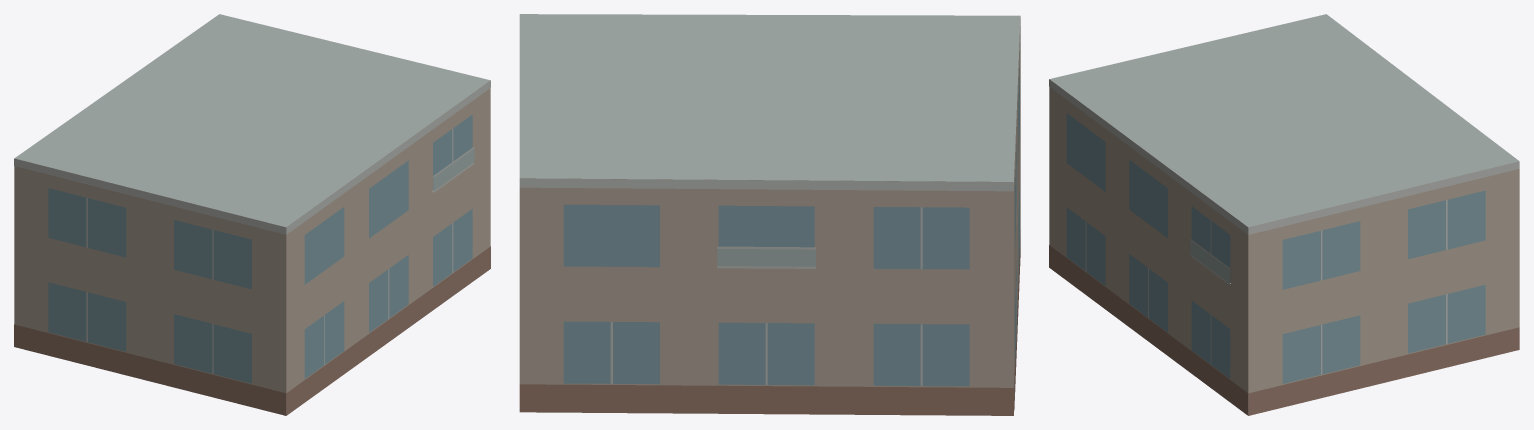
Rendered from survey-upis-32694463.glb.
The picture shows the model from 3 angles, left to right: view 1: azimuth 30°, elevation 25°; view 2: azimuth 150°, elevation 25°; view 3: azimuth 270°, elevation 25°; orthographic projection. The views are drawn at different scales.
Visible parts, largest first — view 1: survey-upis-32694463.tmp; view 2: survey-upis-32694463.tmp; view 3: survey-upis-32694463.tmp.
Part boxes in pixels (x1,y1,x2,y2): survey-upis-32694463.tmp: (14,14,490,415); survey-upis-32694463.tmp: (519,14,1020,415); survey-upis-32694463.tmp: (1049,14,1519,415).
Size of the model in its own units: 14.82 by 6.1 by 13.81.
